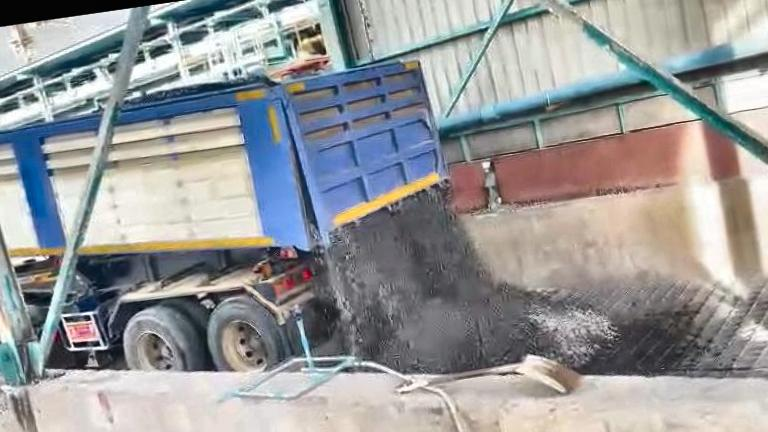gravel: (324, 187, 606, 372)
